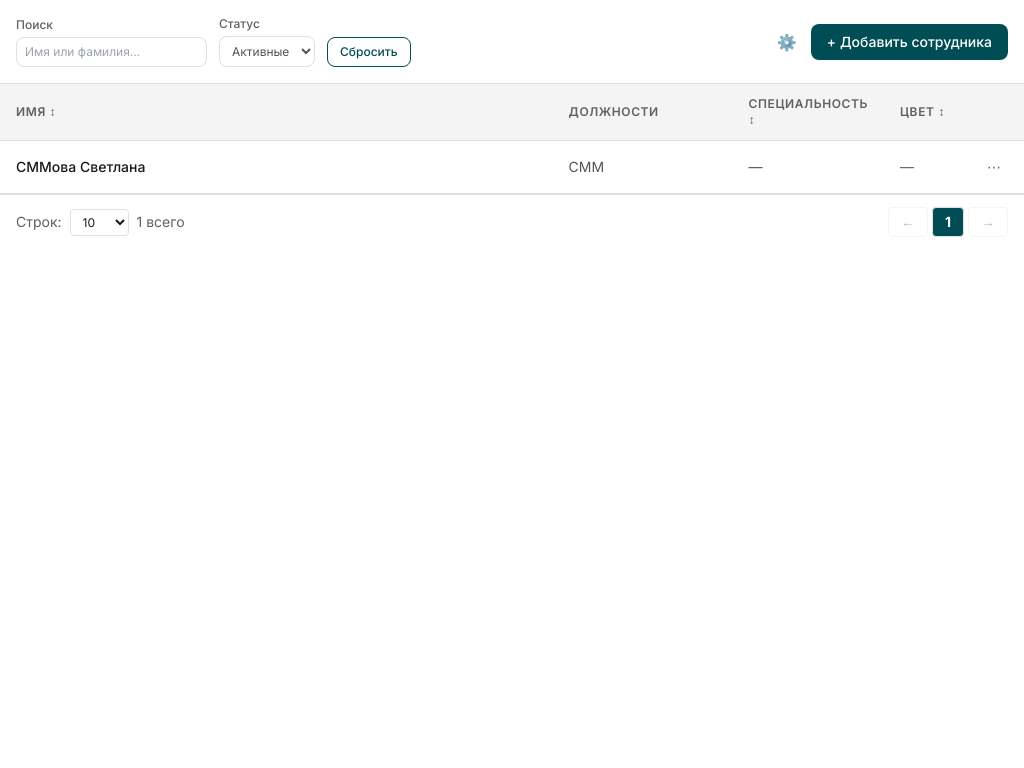
it: StaffTable › D6 dialog — no master section (СММ) → master checkbox absent
Expected: the text "СММова Светлана" is shown, x1=16 y1=158 x2=145 y2=175
Click the button named "Действия" at (994, 167), box x1=980 y1=153 x2=1008 y2=181
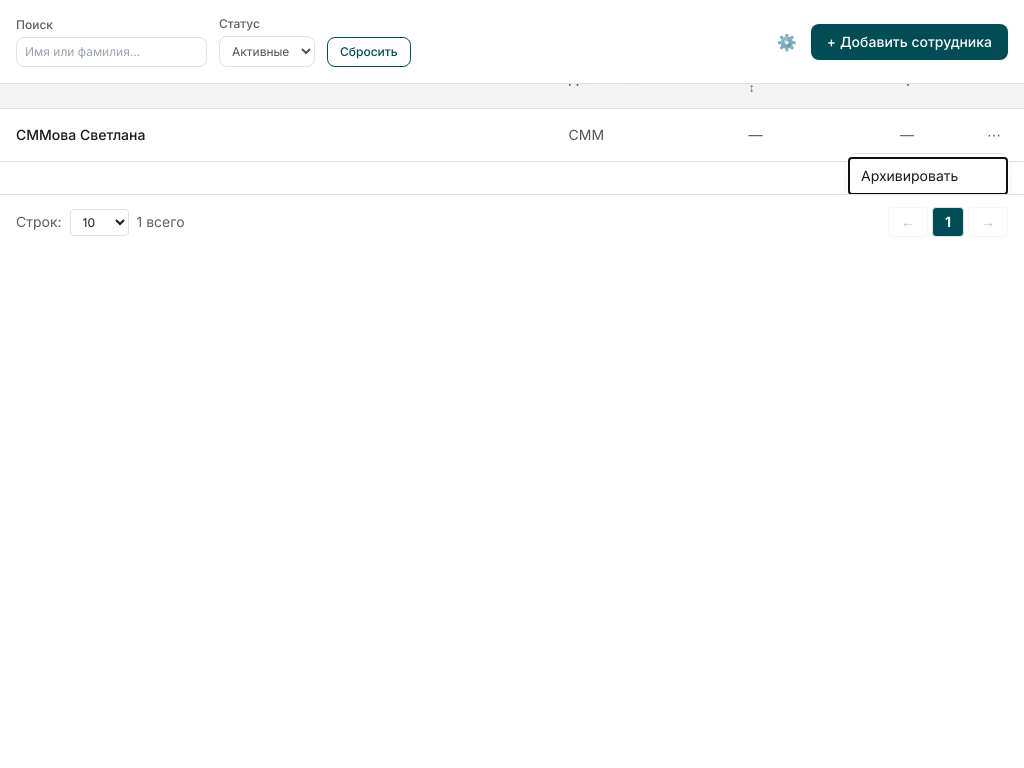
Click the menu item "Архивировать" at (928, 176), box x1=849 y1=158 x2=1007 y2=194
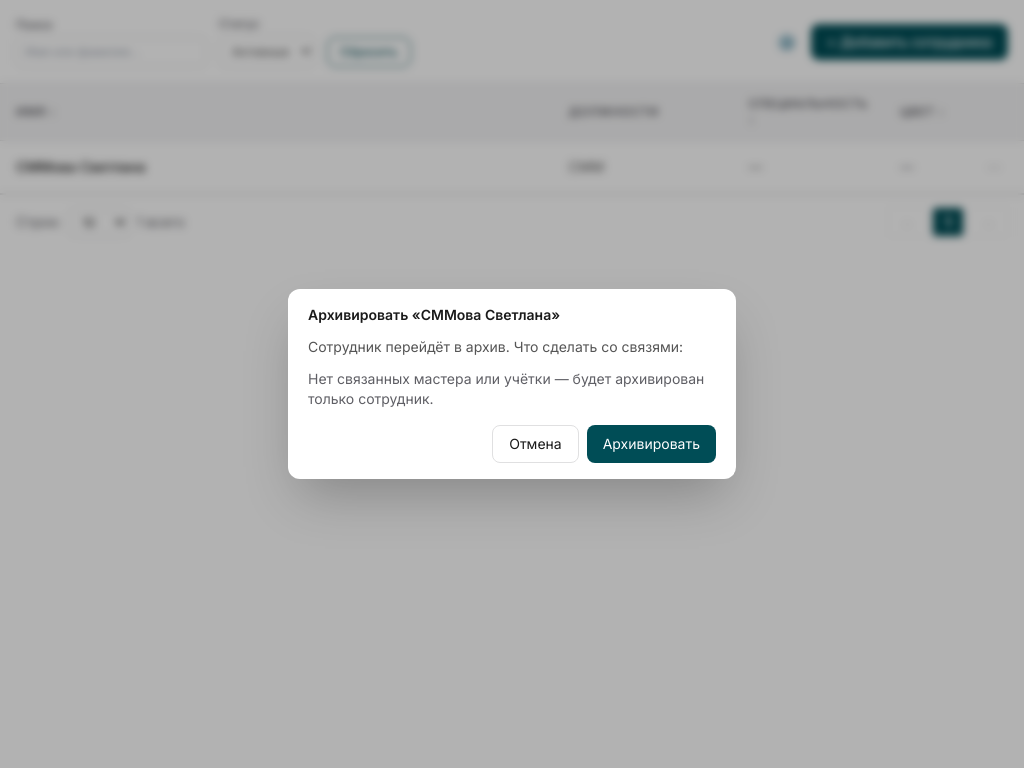
Result: the text "будет архивирован только сотрудник" is shown at x1=308 y1=370 x2=704 y2=407
